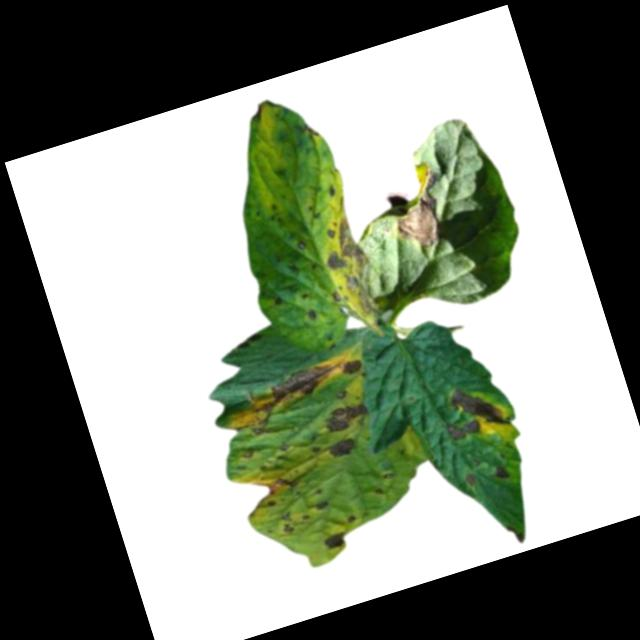Early_blight: (316, 210, 387, 328), (379, 159, 458, 256), (248, 358, 344, 420), (450, 379, 507, 438), (321, 399, 370, 437), (444, 413, 484, 446), (323, 434, 359, 463), (260, 473, 298, 500), (248, 99, 281, 125), (337, 355, 364, 380), (275, 511, 297, 538), (322, 531, 349, 552), (490, 464, 511, 485), (305, 307, 322, 327), (463, 471, 479, 491), (313, 502, 328, 515)
